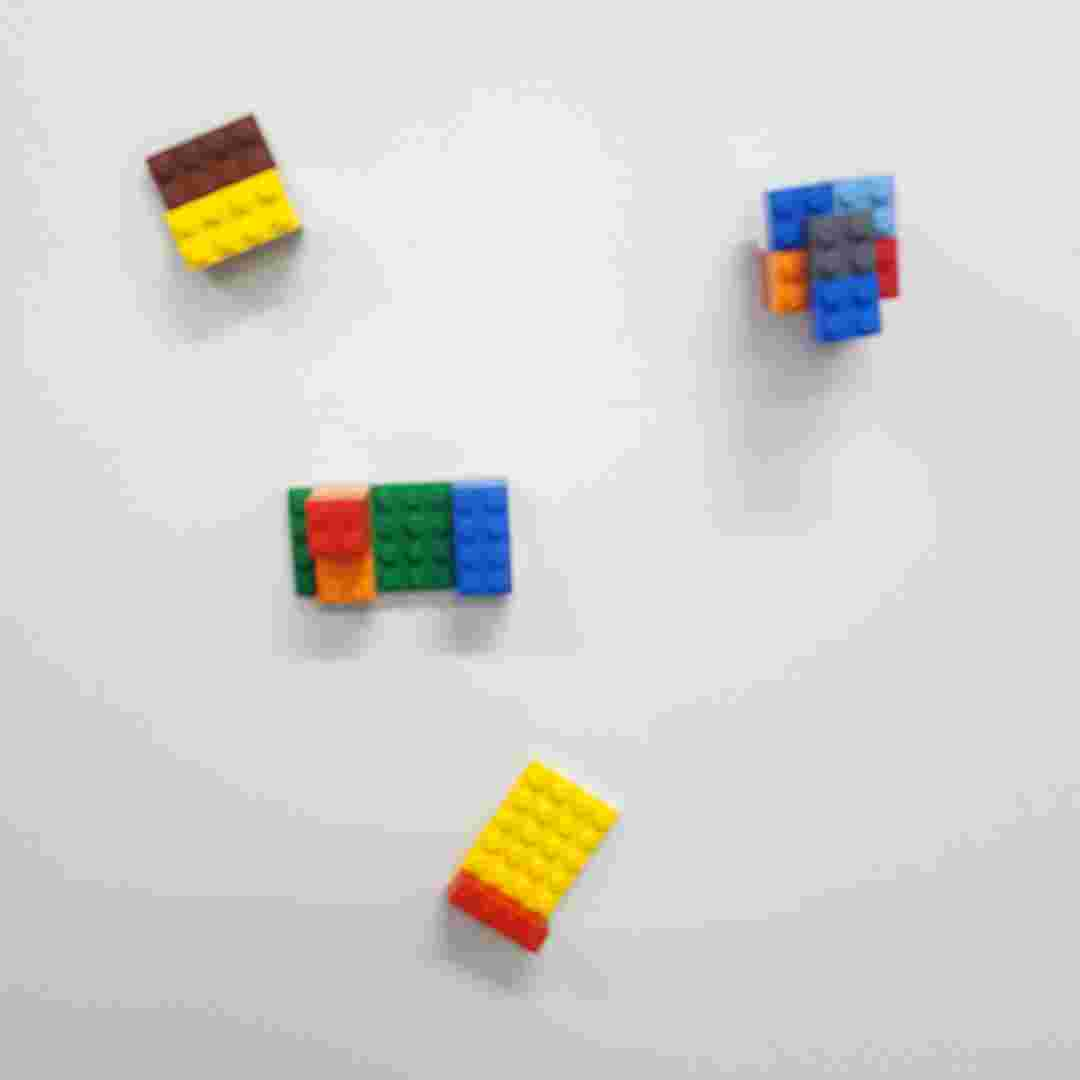LEGO: (442, 755, 620, 952), (140, 105, 304, 283), (286, 482, 516, 602), (758, 174, 912, 353)
